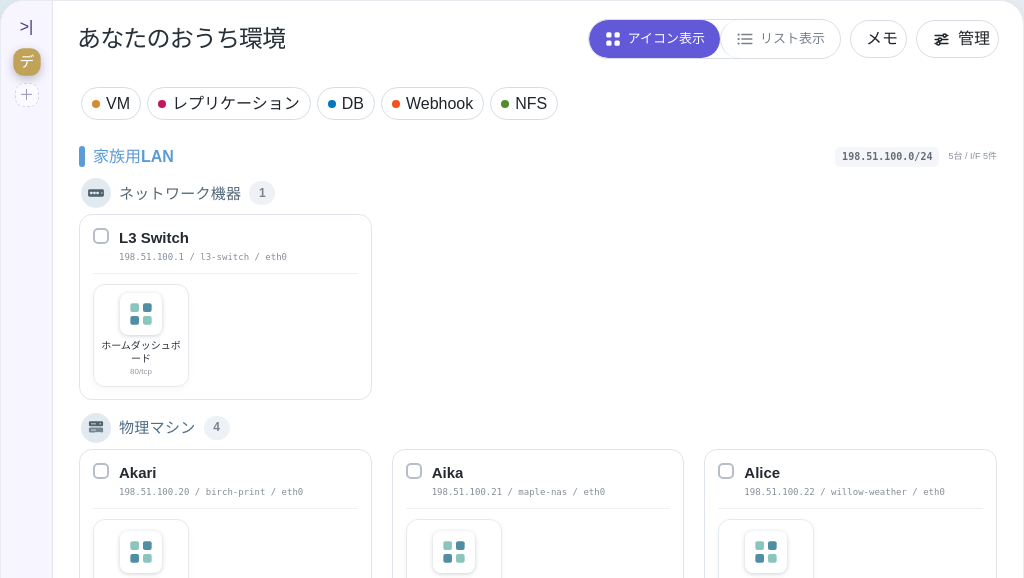
Test: OuchiPortal › opens every management tab in YAML demo mode
Expected: the text "ホームダッシュボード" is shown, top-left (100, 340), bottom-right (182, 365)
Step 1. Click the button "管理" → (958, 39), box top-left (916, 20), bottom-right (999, 58)
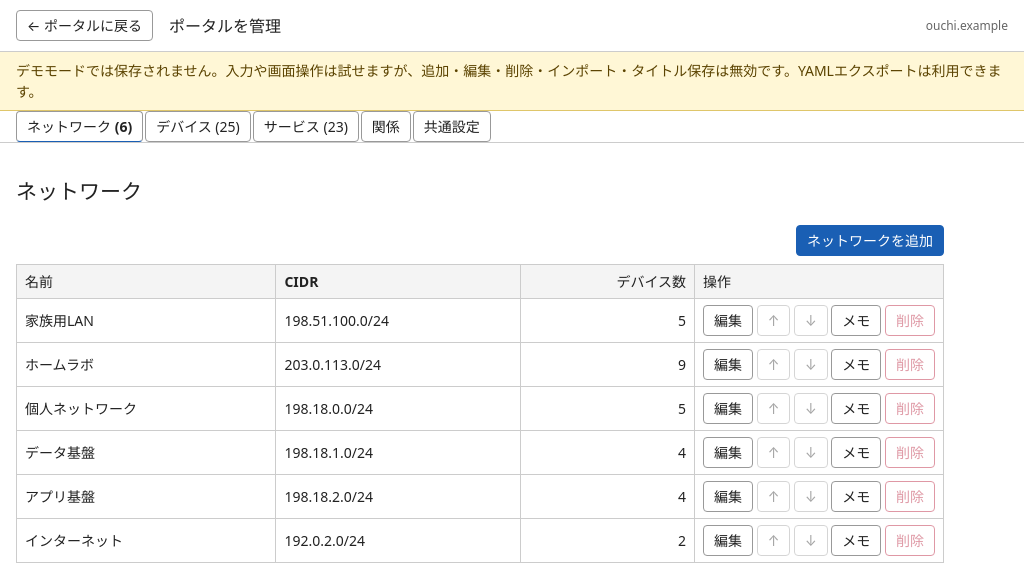
Expected: the heading "ネットワーク" is shown, top-left (16, 177), bottom-right (142, 205)
Step 2. Click the tab "デバイス (25)" → (198, 126), box top-left (145, 111), bottom-right (251, 142)
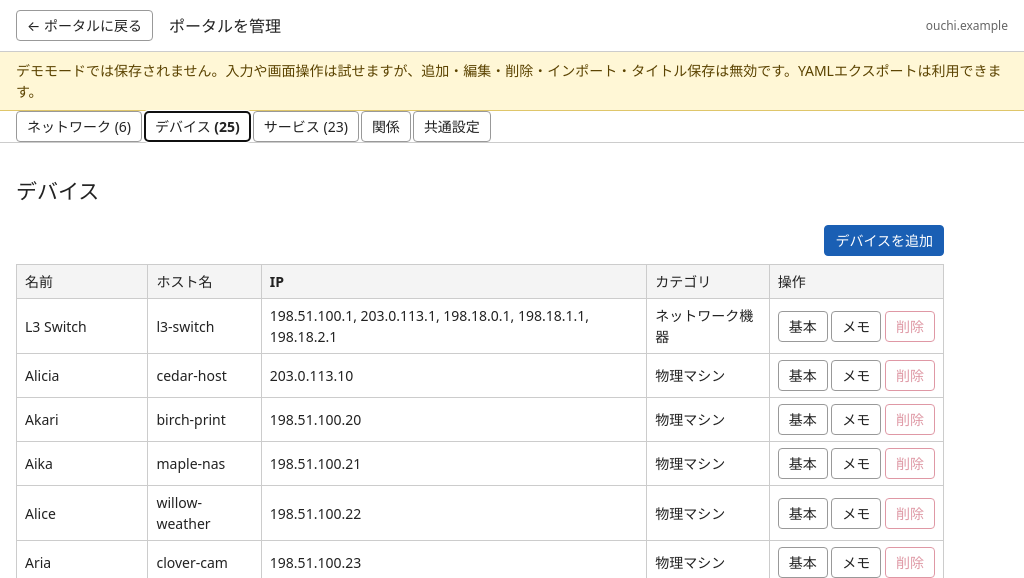
Expected: the heading "デバイス" is shown, top-left (16, 177), bottom-right (99, 205)
Step 3. Click the tab "サービス (23)" → (306, 126), box top-left (253, 111), bottom-right (359, 142)
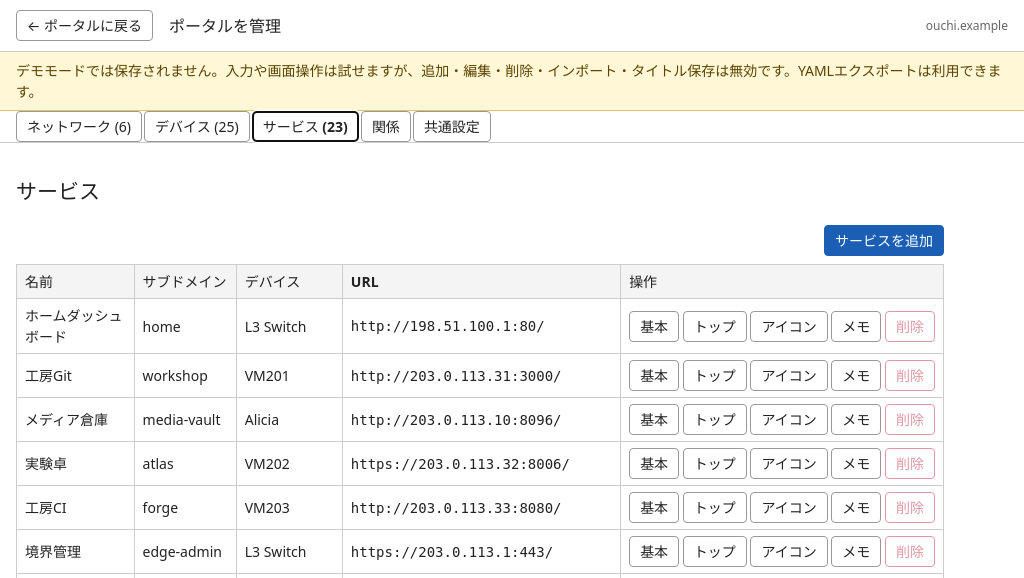
Expected: the heading "サービス" is shown, top-left (16, 177), bottom-right (100, 205)
Step 4. Click the tab "関係" → (386, 126), box top-left (361, 111), bottom-right (411, 142)
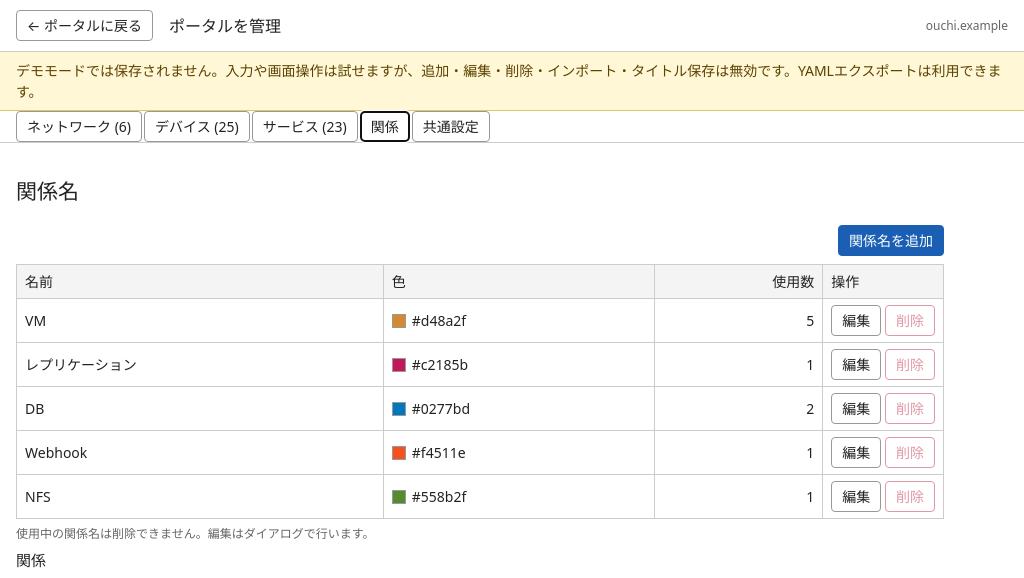
Expected: the heading "関係名" is shown, top-left (16, 177), bottom-right (79, 205)
Expected: the heading "関係" is shown, top-left (16, 550), bottom-right (46, 570)
Step 5. Click the tab "共通設定" → (451, 126), box top-left (412, 111), bottom-right (490, 142)
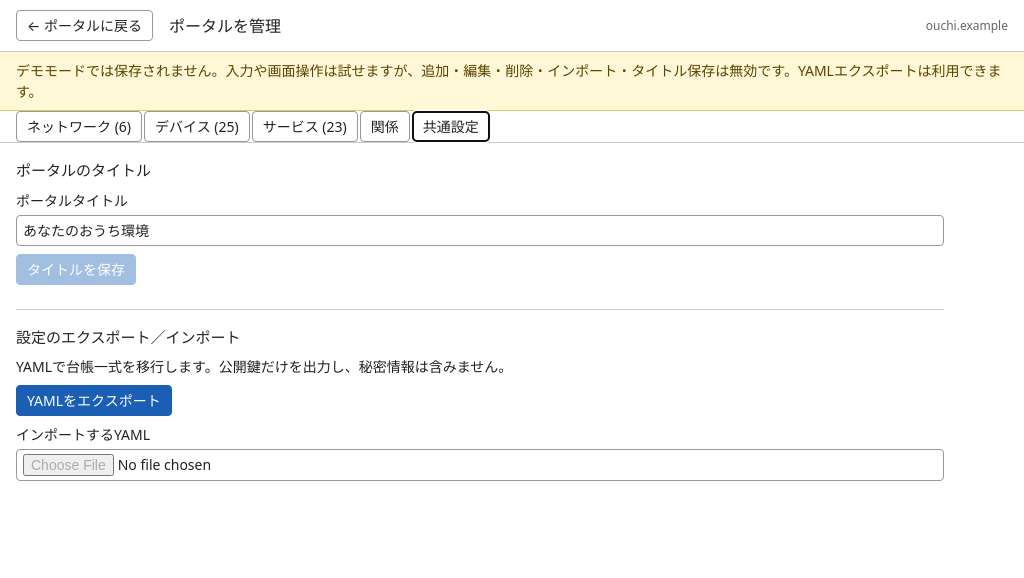
Expected: the heading "ポータルのタイトル" is shown, top-left (16, 160), bottom-right (151, 180)
